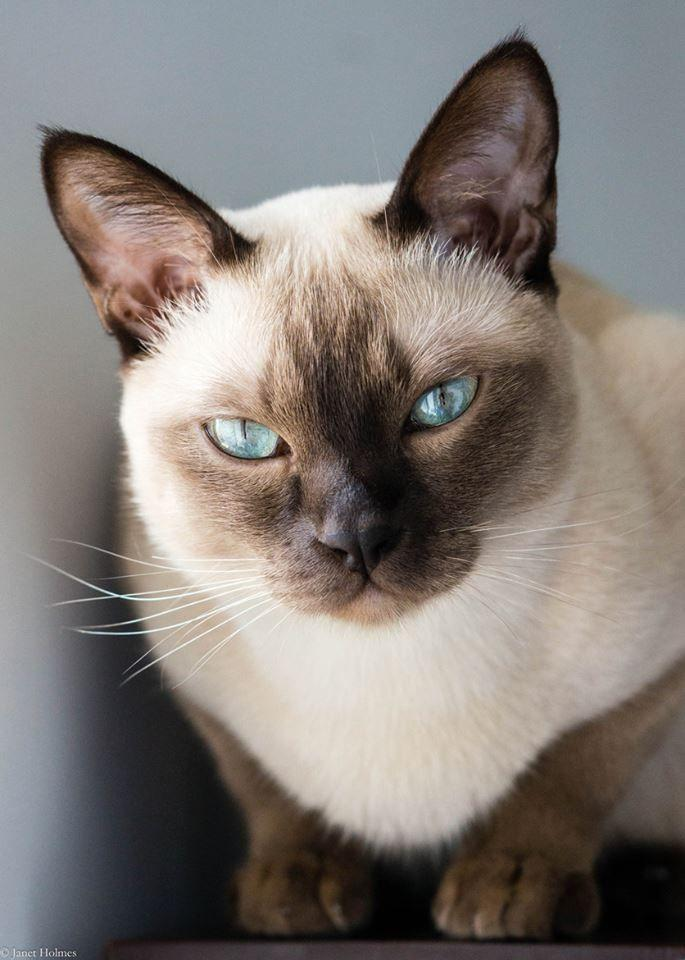siamese: (32, 25, 595, 647)
